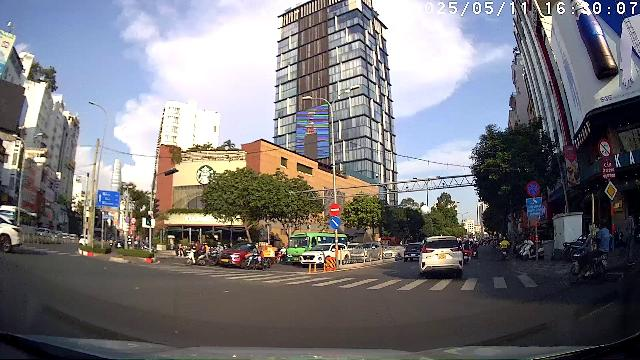102-cam-di-nguoc-chieu: (330, 204, 340, 217)
130-cam-dung-va-do-xe: (526, 181, 540, 197)
302a-huong-phai-di-vong-chuong-ngai-vat-1: (330, 217, 340, 229)
